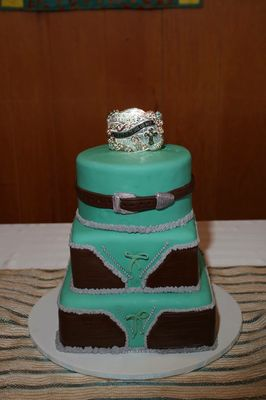curry: (0, 222, 266, 400)
sushi: (57, 104, 219, 352)
